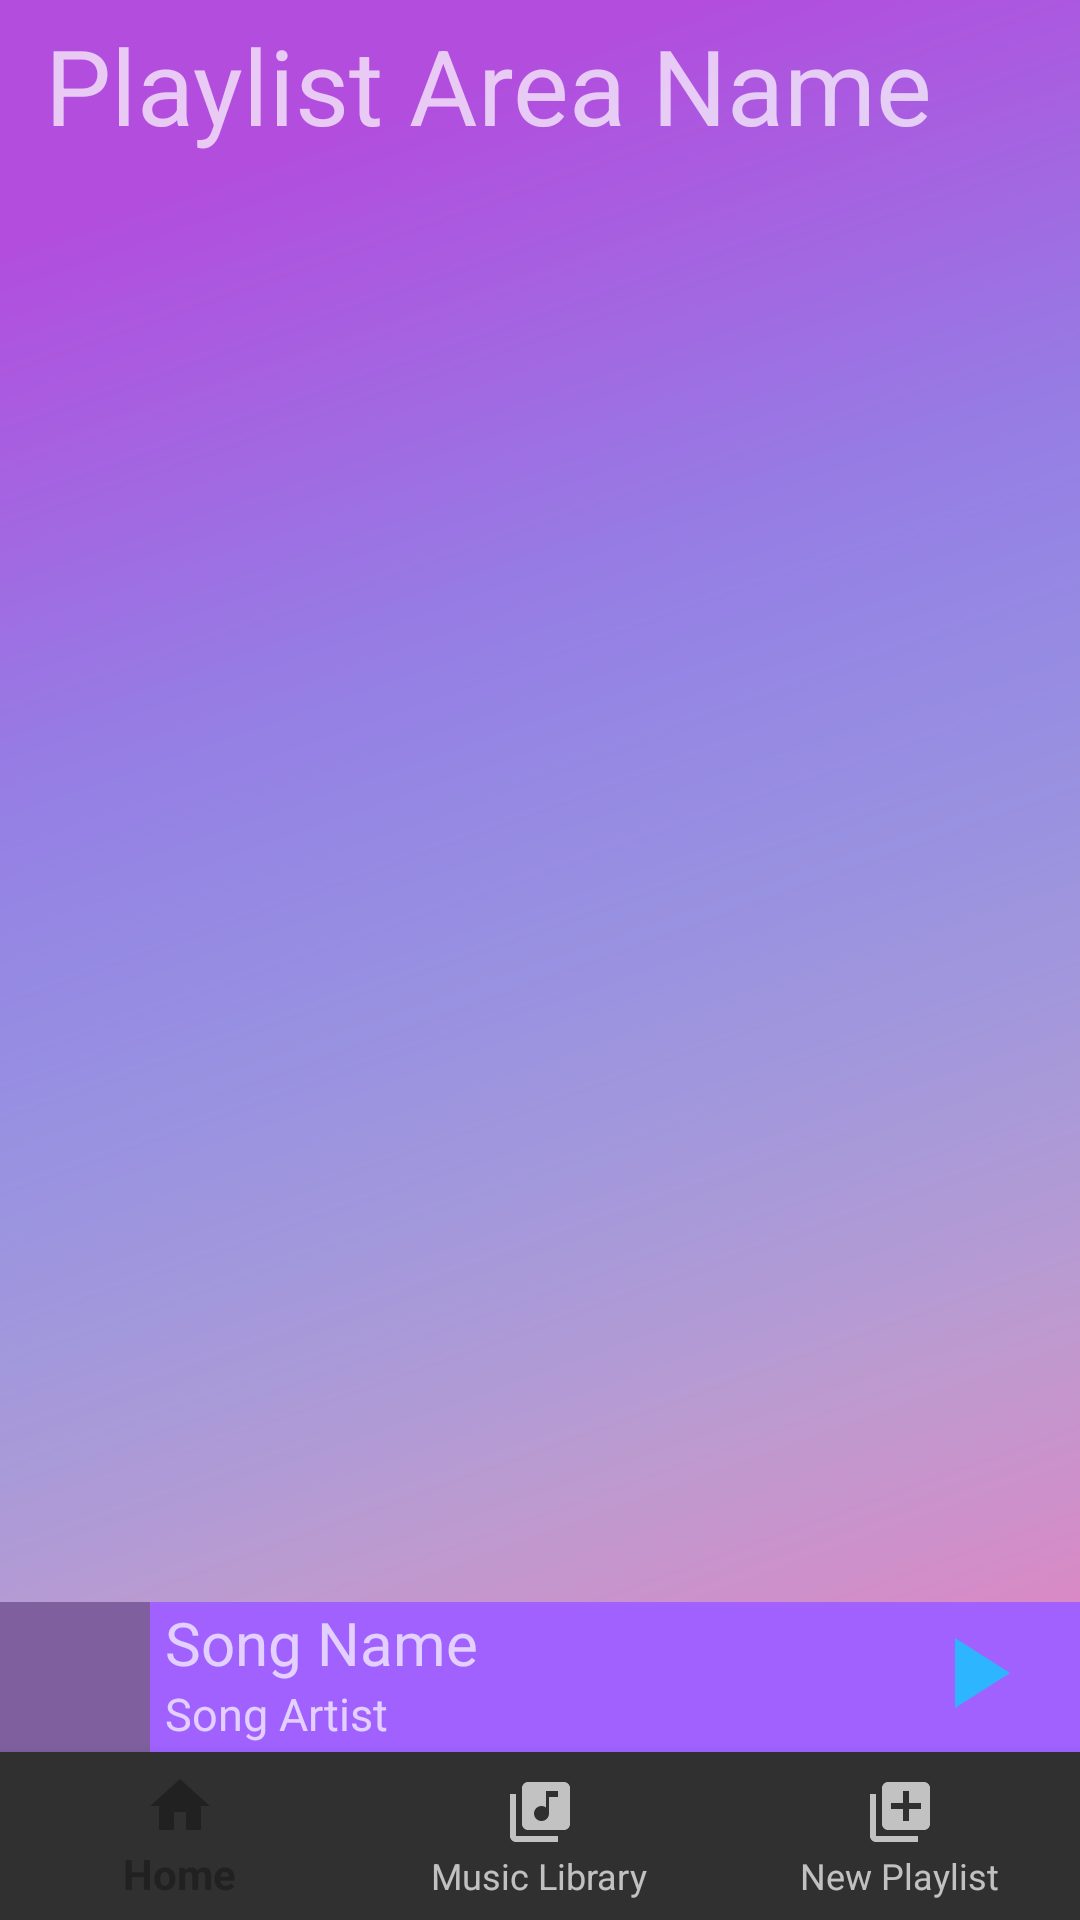

Icon click points for this 1080 × 1920 phone screenshot, format (x,y):
play arrow: (982,1673)
